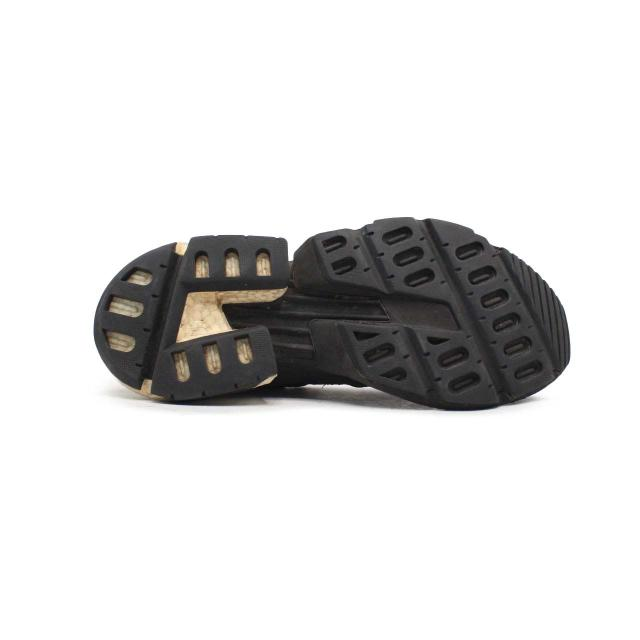outersole: (93, 217, 571, 412)
